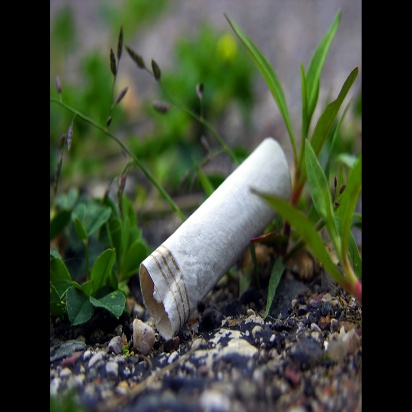cigarette: (134, 134, 296, 334)
